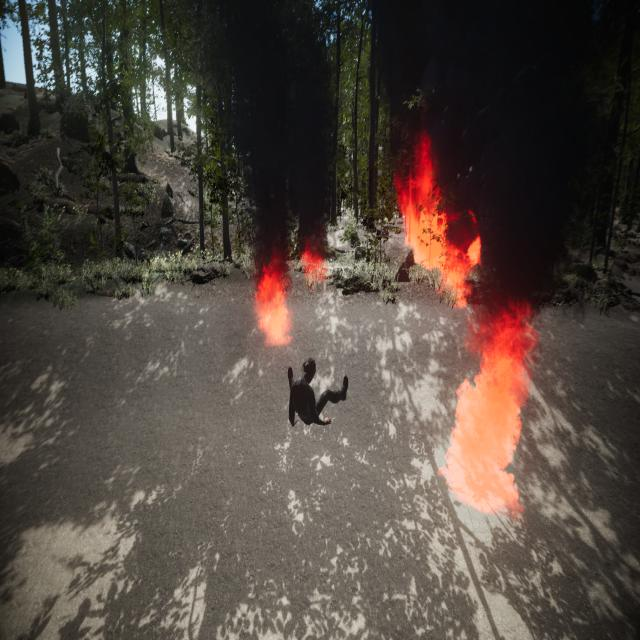Human: (272, 339, 360, 450)
